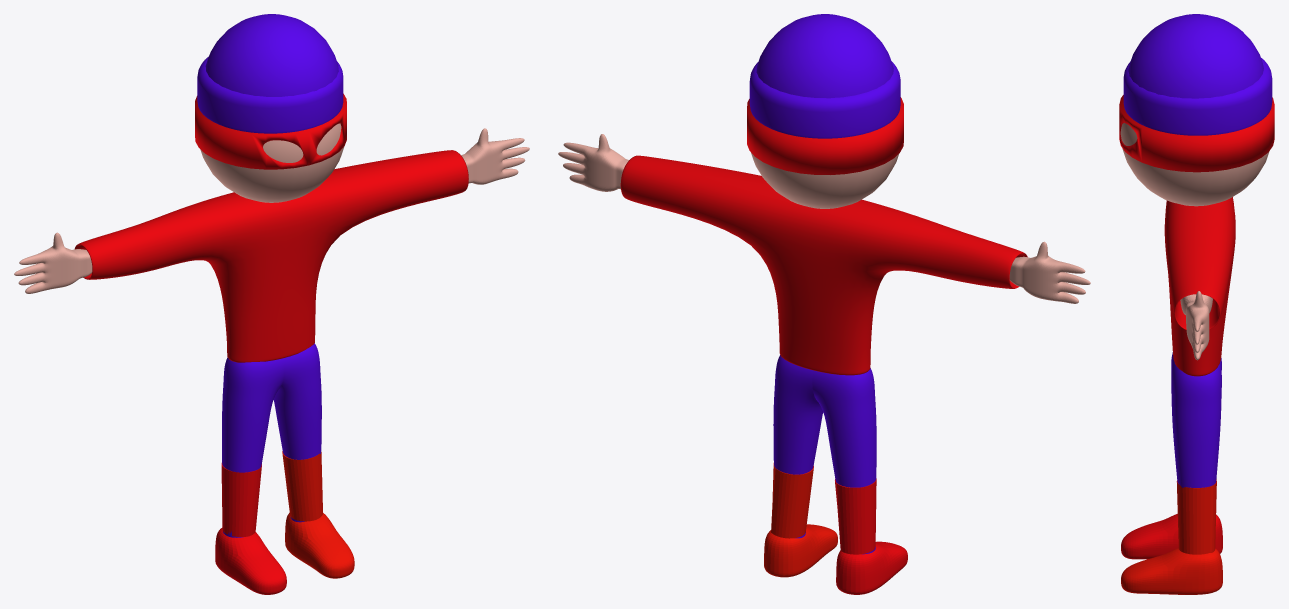
Rendered from Enemy02.fbx.
3 views of the same model, side by side, from view 1: azimuth 30°, elevation 25°; view 2: azimuth 150°, elevation 25°; view 3: azimuth 270°, elevation 25° (orthographic). The views are drawn at different scales.
Parts seen in each view (by area): view 1: Cube.011, Cube.010, Sphere.002, BezierCircle, Sphere.001, Circle, Cube.004, Cube.003, Cube.001, Cylinder, Cube.002, Cylinder.001; view 2: Cube.011, Cube.010, Sphere.002, BezierCircle, Circle, Sphere.001, Cube.001, Cube.004, Cube.003, Cylinder, Cylinder.001, Cube.002; view 3: Cube.011, Sphere.002, BezierCircle, Circle, Cube.010, Sphere.001, Cube.003, Cylinder.001, Cube.004, Cube.002.
Boxes of the visible parts, <box> form: Cube.011: <box>74,150,468,362</box>; Cube.010: <box>222,343,321,537</box>; Sphere.002: <box>205,14,338,96</box>; BezierCircle: <box>197,56,343,133</box>; Sphere.001: <box>200,123,344,202</box>; Circle: <box>195,93,346,169</box>; Cube.004: <box>215,528,286,594</box>; Cube.003: <box>285,513,354,578</box>; Cube.001: <box>14,232,92,293</box>; Cylinder: <box>221,463,261,536</box>; Cube.002: <box>461,128,529,184</box>; Cylinder.001: <box>282,451,322,521</box>; Cube.011: <box>620,155,1027,375</box>; Cube.010: <box>773,355,876,554</box>; Sphere.002: <box>756,14,893,98</box>; BezierCircle: <box>749,61,900,138</box>; Circle: <box>747,97,903,174</box>; Sphere.001: <box>751,152,898,208</box>; Cube.001: <box>1009,241,1090,303</box>; Cube.004: <box>836,541,907,594</box>; Cube.003: <box>764,524,837,577</box>; Cylinder: <box>835,478,876,554</box>; Cylinder.001: <box>771,463,813,538</box>; Cube.002: <box>558,134,628,191</box>; Cube.011: <box>1164,197,1235,376</box>; Sphere.002: <box>1128,14,1263,98</box>; BezierCircle: <box>1123,58,1272,135</box>; Circle: <box>1119,95,1274,172</box>; Cube.010: <box>1171,352,1221,487</box>; Sphere.001: <box>1120,123,1269,206</box>; Cube.003: <box>1121,548,1222,594</box>; Cylinder.001: <box>1176,480,1216,554</box>; Cube.004: <box>1121,514,1222,559</box>; Cube.002: <box>1180,291,1212,360</box>.
Bounding box in the file's own units: 791 × 793 × 203.
